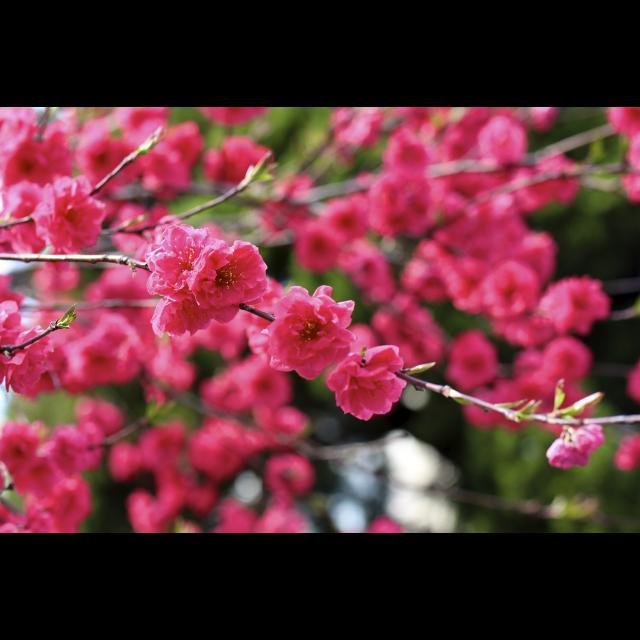Flower: (1, 107, 640, 533), (147, 225, 239, 338), (264, 284, 354, 376), (325, 344, 405, 420), (190, 240, 266, 310)
